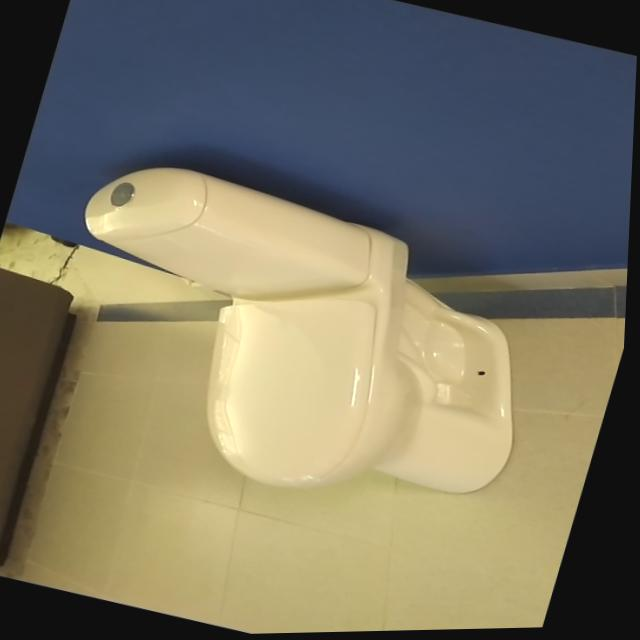toilet: (21, 140, 576, 546)
